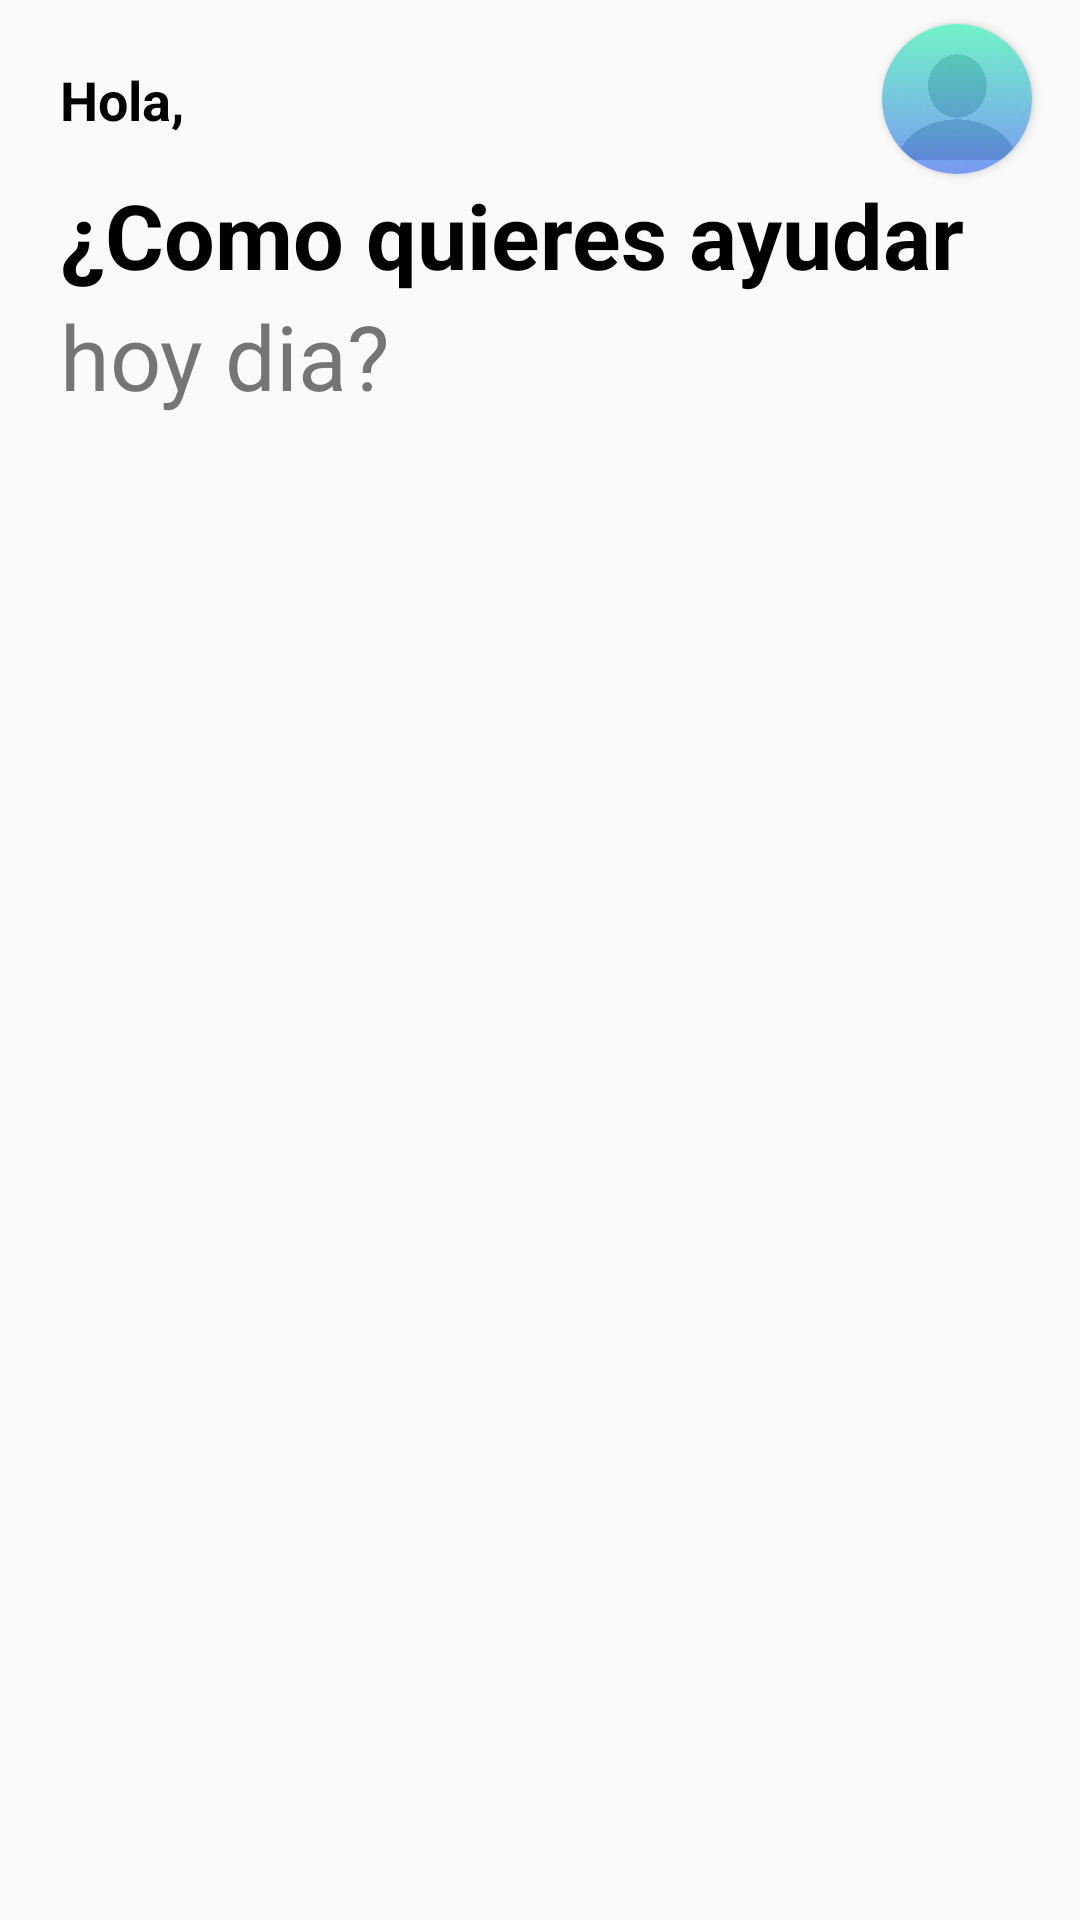

Screen size 1080px x 1920px. Icon name, then its center in pixels as [x,y]:
blank profile: [957,99]
